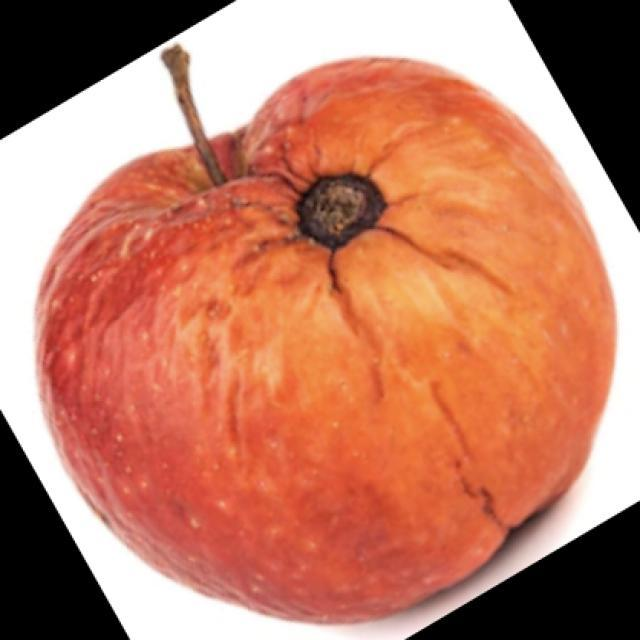Rotten: (36, 57, 592, 583)
